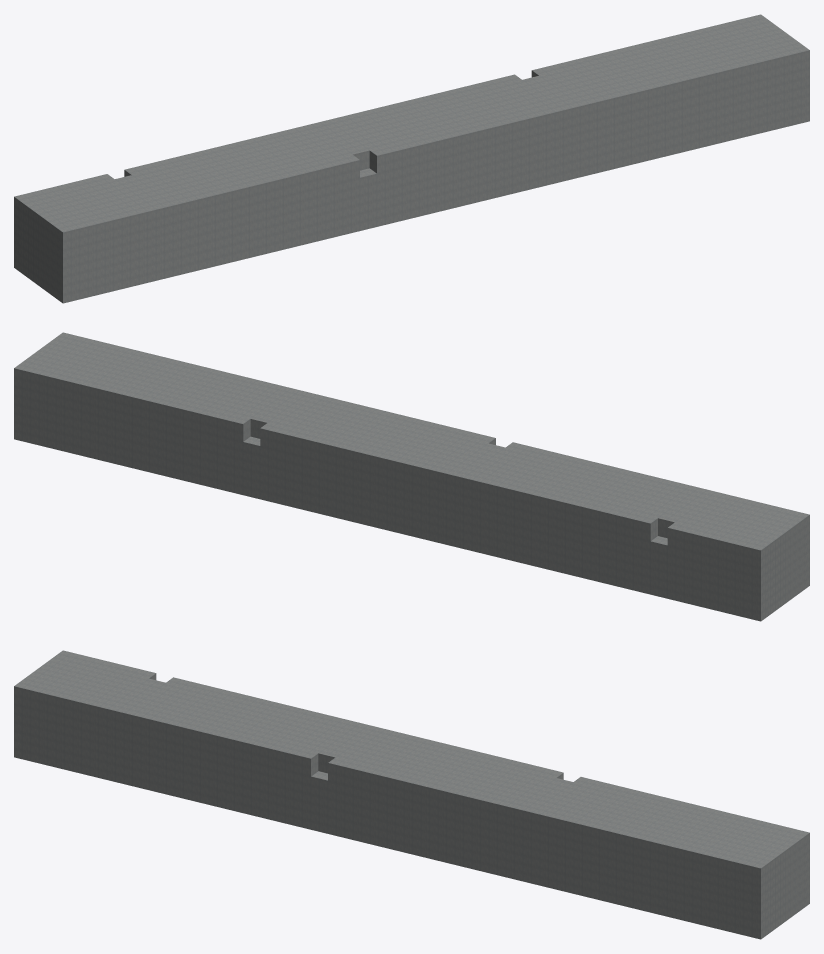
3 views of the same model, one above another, from view 1: azimuth 30°, elevation 25°; view 2: azimuth 150°, elevation 25°; view 3: azimuth 330°, elevation 25° (orthographic).
Parts seen in each view (by area): view 1: Cube__3_; view 2: Cube__3_; view 3: Cube__3_.
Boxes of the visible parts, box(x1,y1,x2,y2) form: Cube__3_: box(14, 14, 809, 303); Cube__3_: box(14, 332, 809, 621); Cube__3_: box(14, 650, 809, 939).
Bounding box in the file's own units: 8800 × 800 × 1000.
